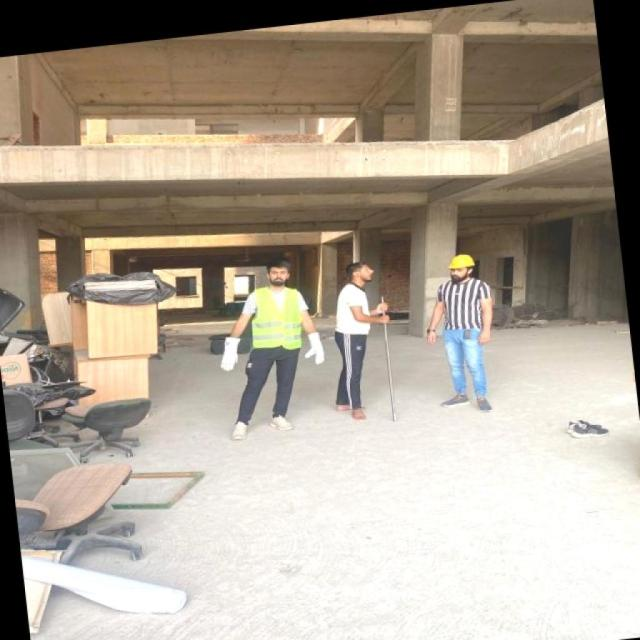Gloves-Detection: (304, 324, 325, 370), (219, 334, 243, 372)
